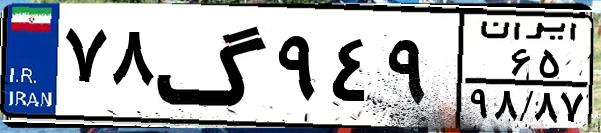4: (330, 28, 385, 110)
5: (537, 27, 568, 80)
6: (508, 27, 537, 80)
7: (57, 26, 110, 100), (560, 70, 590, 125)
8: (110, 28, 156, 98), (495, 70, 520, 125), (535, 70, 560, 125)
9: (270, 28, 330, 110), (385, 28, 445, 110), (470, 70, 495, 125)
گ: (156, 12, 270, 120)
